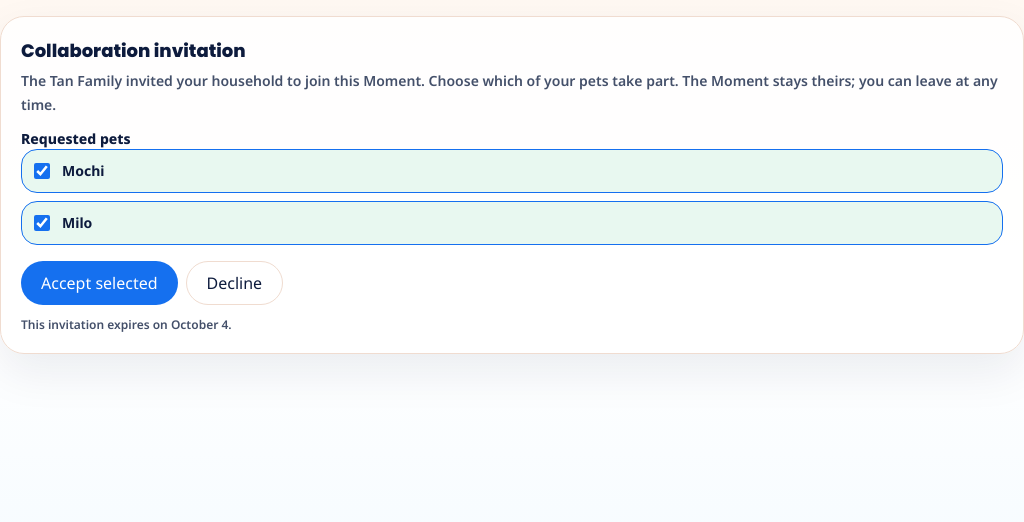
Test: a household's collaboration invitation on the Moment › asks which requested pets join, all ticked to start
What coordinates should you click on to do the following:
click the checkbox labelled "Milo"
I would click on:
 (42, 223)
Its box is [34,215,50,231].
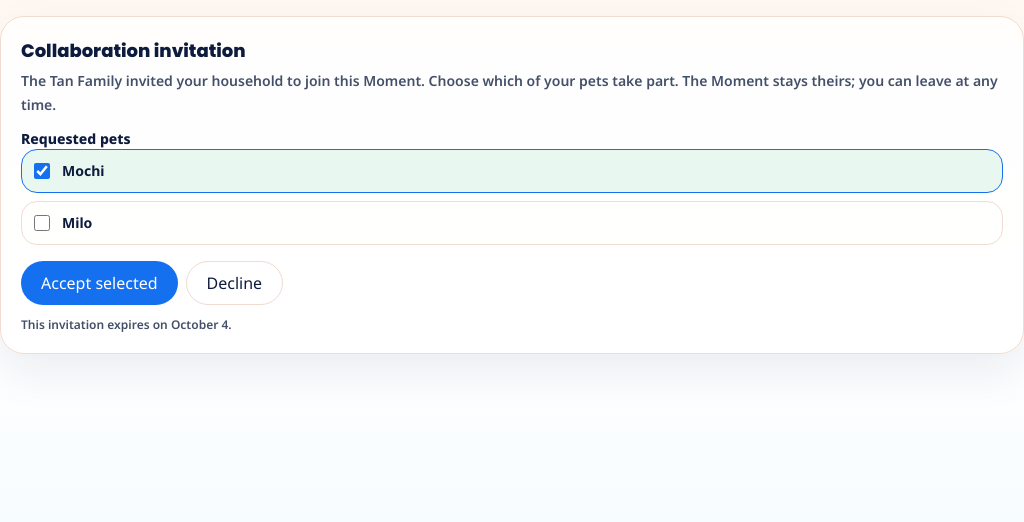
What coordinates should you click on to do the following:
click the button "Accept selected"
I would click on:
 (99, 283)
Its box is [21,261,178,305].
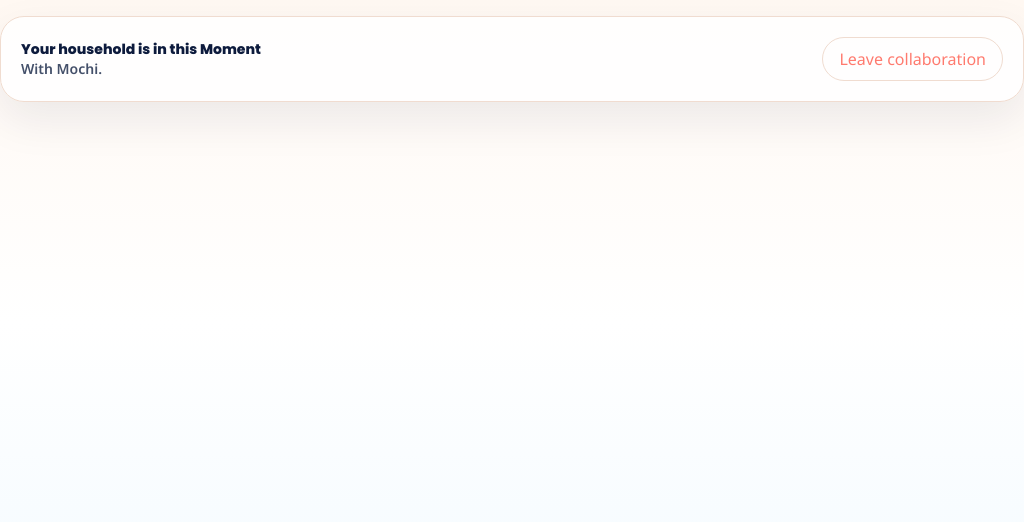
Check: the element "Your household is in this Moment" is shown, box [0,16,1023,102]
